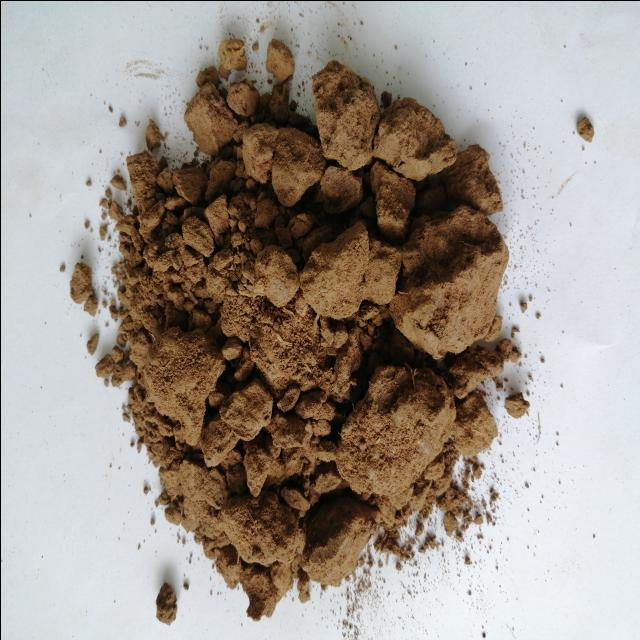soil: (134, 143, 477, 537)
